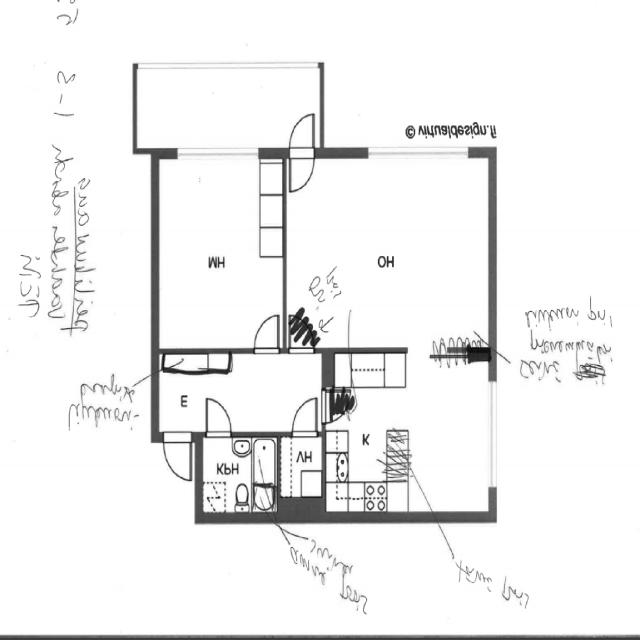door: (278, 426, 324, 508), (284, 110, 318, 198), (160, 430, 195, 485), (250, 307, 284, 359), (200, 394, 234, 439), (290, 393, 320, 439)
window: (362, 138, 473, 169), (171, 138, 263, 169), (486, 374, 500, 493)
zone: (284, 153, 494, 352), (322, 354, 495, 516), (154, 152, 285, 352), (154, 349, 324, 436), (198, 433, 280, 518), (278, 433, 325, 509)
